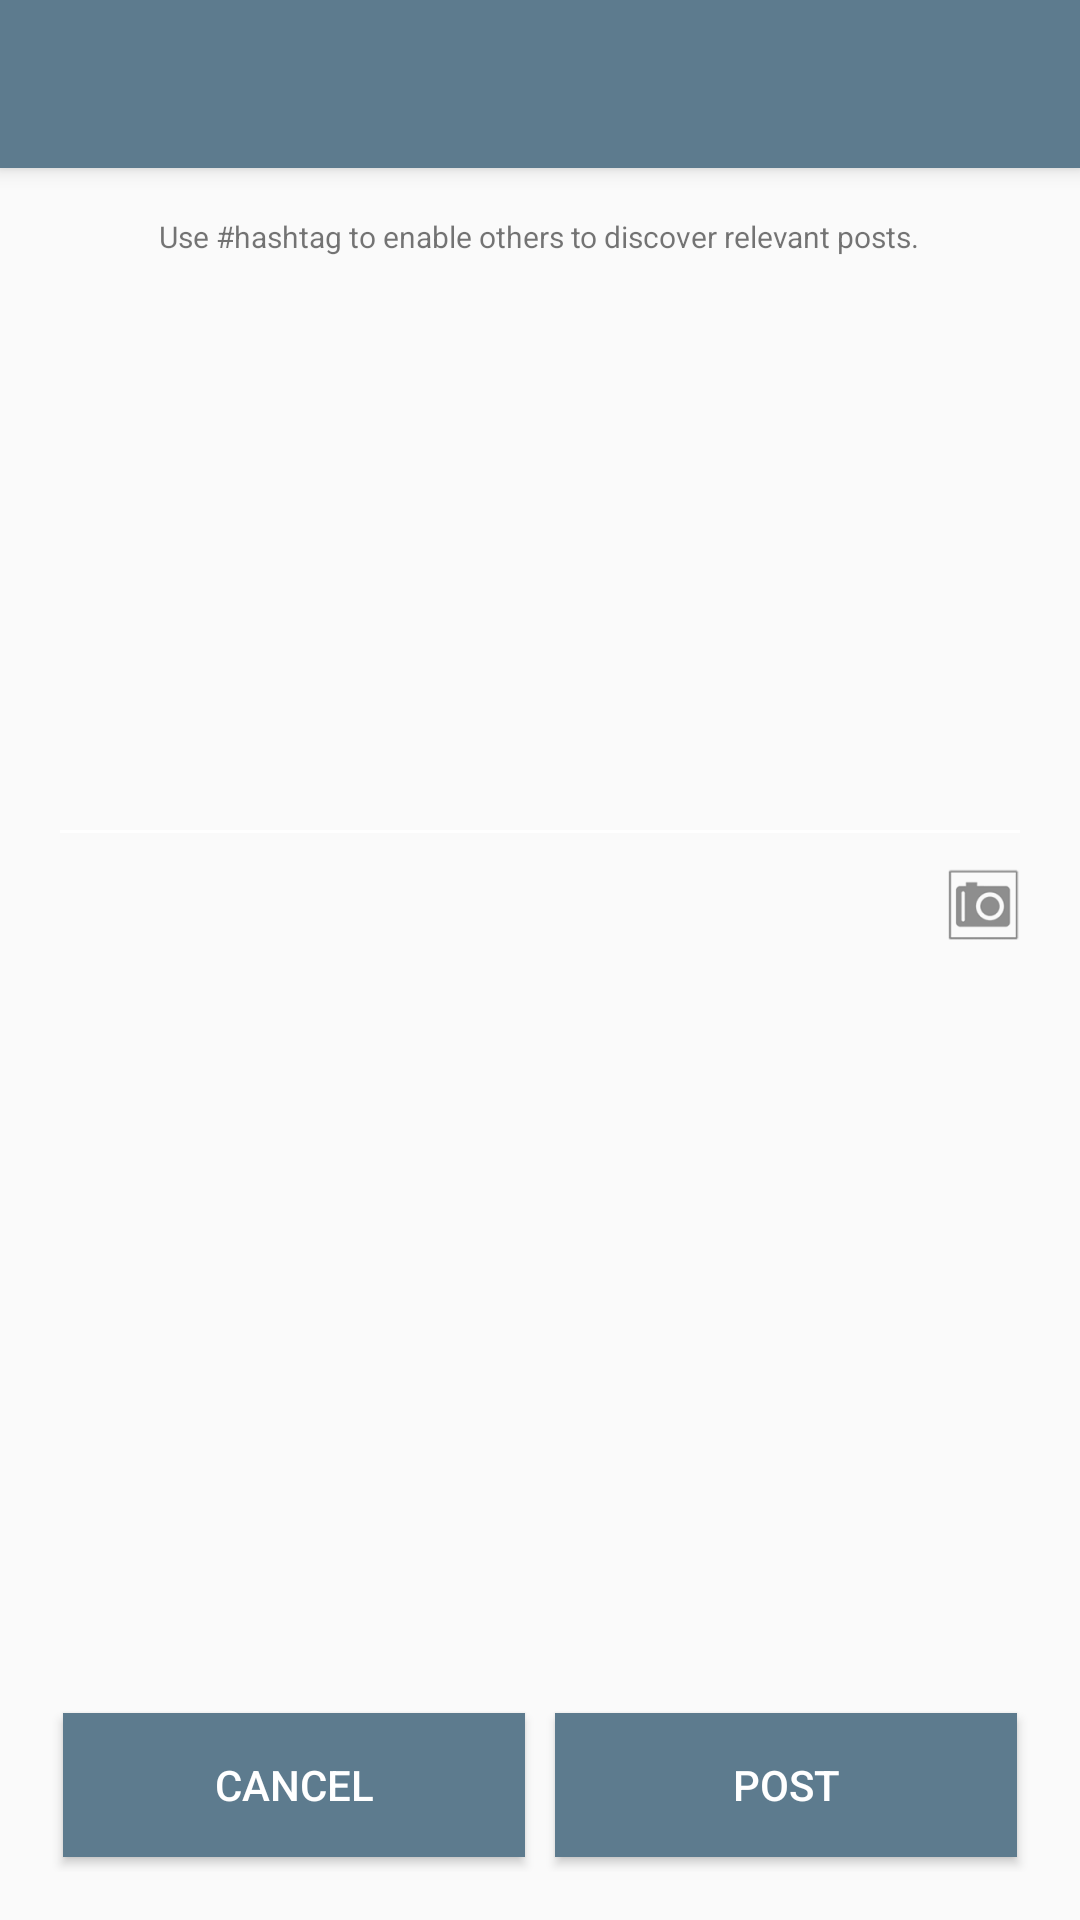

Where icons sit on this 1080px×1920px app screen, as (x1, y1, x2, y2):
select photo: (949, 870, 1018, 940)
